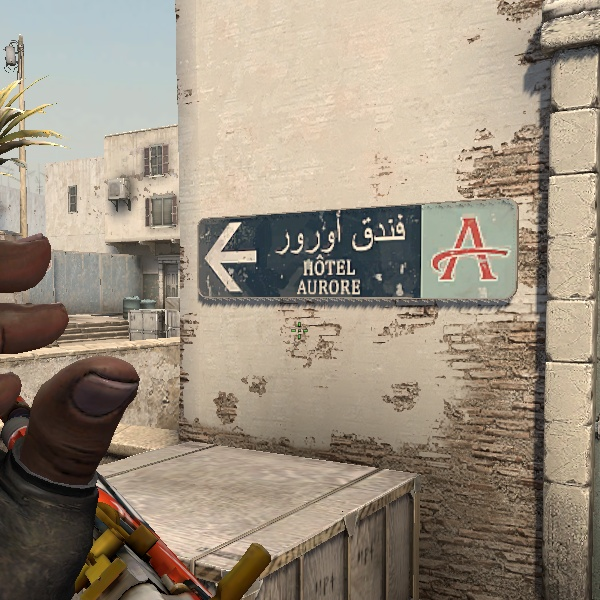t_body: (9, 205, 196, 600)
